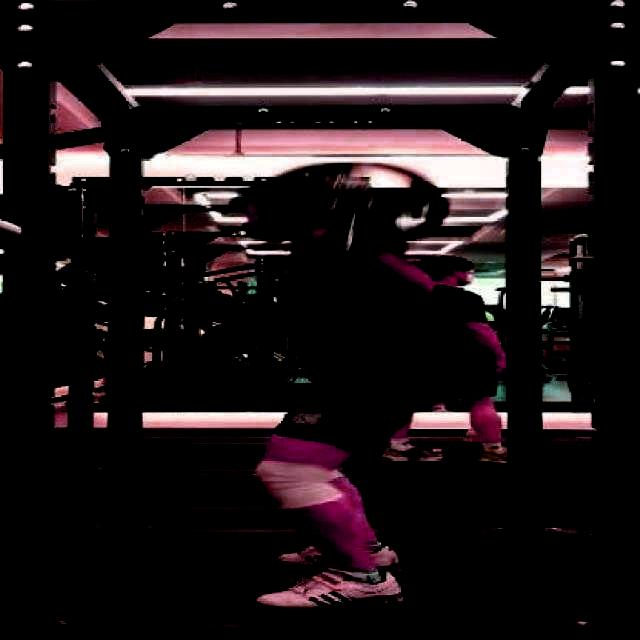barbell: (230, 146, 460, 260)
